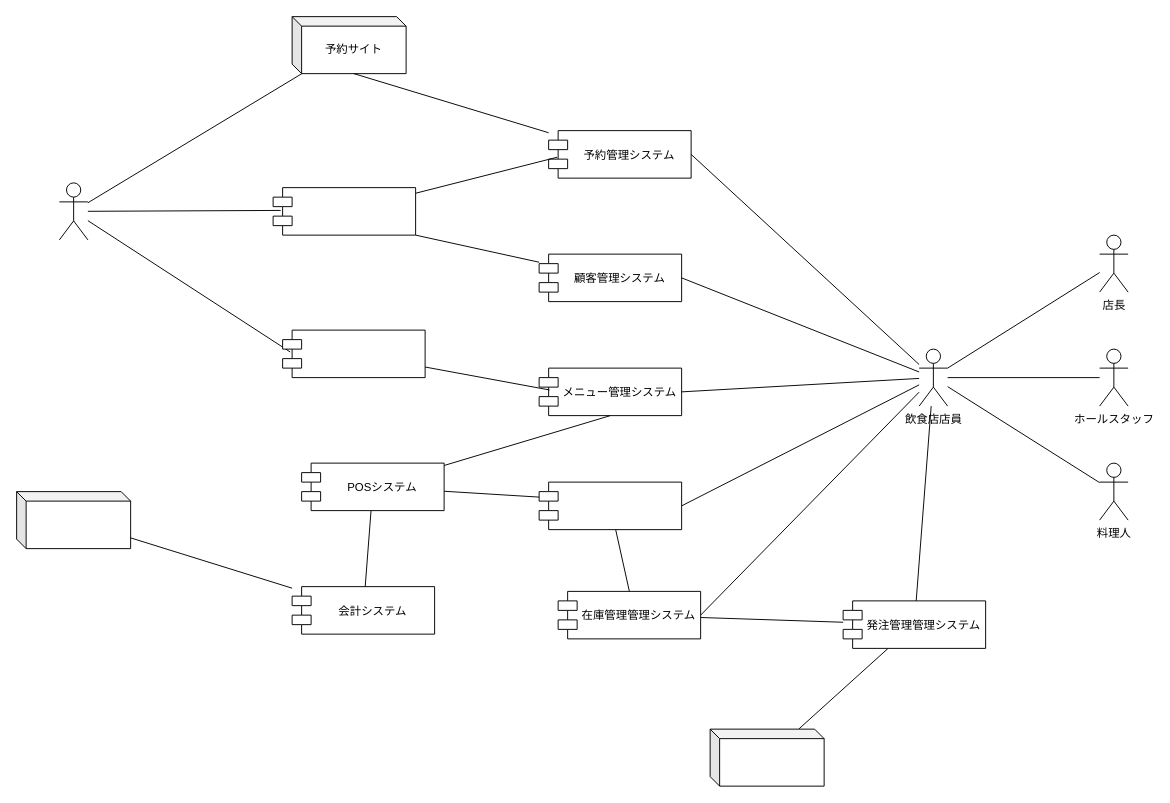
This 1170x803 diagram has some shape labels left out. Each missing label, with the centre of its shape:
"ディナー客" goes at pixel 73 211.
"会員アプリ" goes at pixel 344 211.
"卸業者" goes at pixel 766 757.
"収納代行" goes at pixel 73 520.
"売上管理システム" goes at pixel 610 505.
"料理注文アプリ" goes at pixel 353 353.
